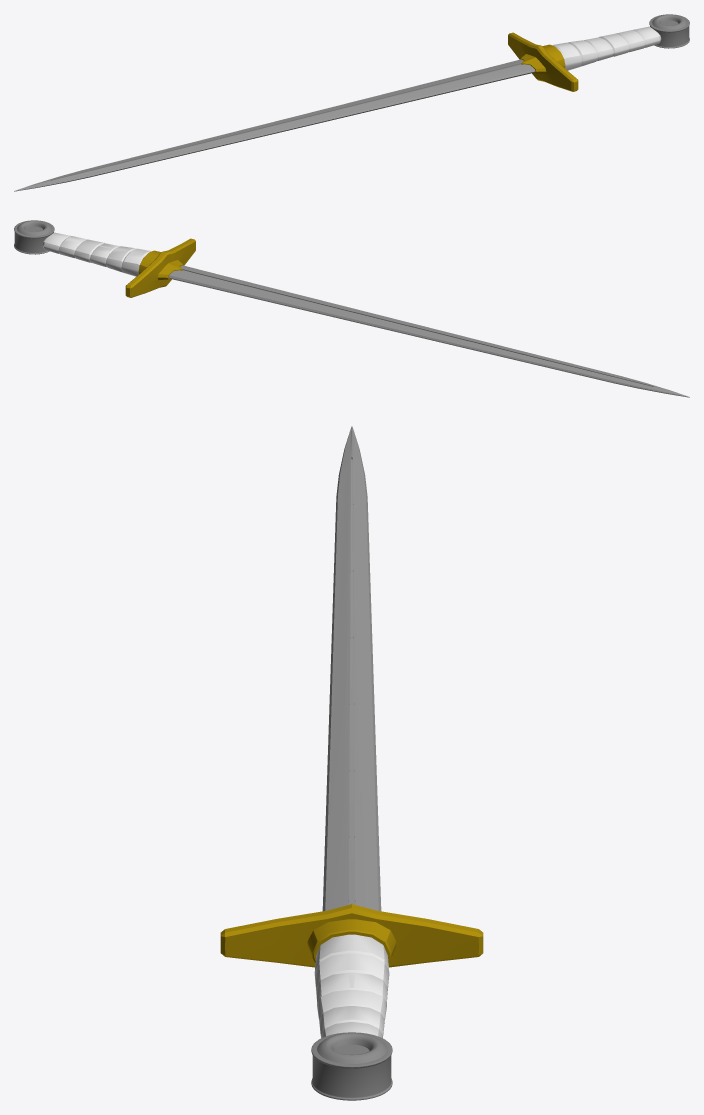
Rendered from Longsword.fbx.
3 renders of one model, top to bottom at view 1: azimuth 30°, elevation 25°; view 2: azimuth 150°, elevation 25°; view 3: azimuth 270°, elevation 25°, orthographic. The views are drawn at different scales.
Visible parts, largest first — view 1: Longsword; view 2: Longsword; view 3: Longsword.
Boxes of the visible parts, x1,y1,x2,y2 form: Longsword: (14, 14, 689, 191); Longsword: (14, 220, 689, 397); Longsword: (220, 426, 483, 1100).
Bounding box in the file's own units: 1.14 × 0.0548 × 0.192.
